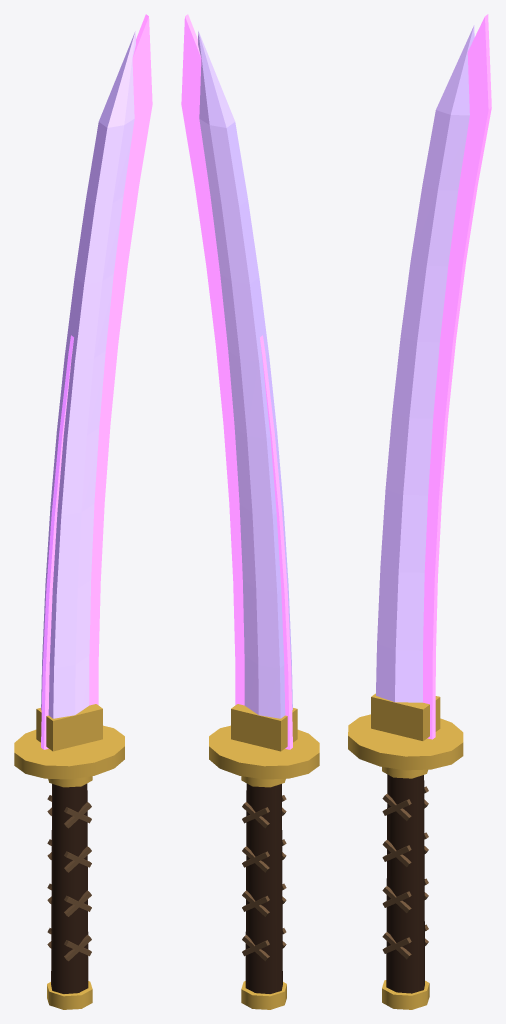
Rendered from sword_f1_b739700c.glb.
3 renders of one model, left to right at view 1: azimuth 30°, elevation 25°; view 2: azimuth 150°, elevation 25°; view 3: azimuth 330°, elevation 25°, orthographic. The views are drawn at different scales.
Visible parts, largest first — view 1: m0_ow80_, m1_, m3_ow80_, m2_ow80_, m4_ow80_; view 2: m0_ow80_, m1_, m3_ow80_, m2_ow80_, m4_ow80_; view 3: m0_ow80_, m1_, m3_ow80_, m2_ow80_, m4_ow80_.
Part boxes in pixels (left/top/right/bottom): m0_ow80_: left=41, top=31, right=135, bottom=718; m1_: left=41, top=14, right=152, bottom=749; m3_ow80_: left=14, top=704, right=124, bottom=1009; m2_ow80_: left=51, top=783, right=88, bottom=993; m4_ow80_: left=47, top=795, right=91, bottom=961; m0_ow80_: left=198, top=31, right=292, bottom=718; m1_: left=181, top=14, right=292, bottom=749; m3_ow80_: left=209, top=704, right=319, bottom=1009; m2_ow80_: left=245, top=783, right=282, bottom=993; m4_ow80_: left=242, top=795, right=286, bottom=961; m0_ow80_: left=376, top=25, right=474, bottom=702; m1_: left=423, top=14, right=491, bottom=739; m3_ow80_: left=348, top=693, right=463, bottom=1009; m2_ow80_: left=386, top=774, right=424, bottom=993; m4_ow80_: left=382, top=786, right=428, bottom=959.
Size of the model in its own units: 0.2694 by 1.9 by 0.1764.
